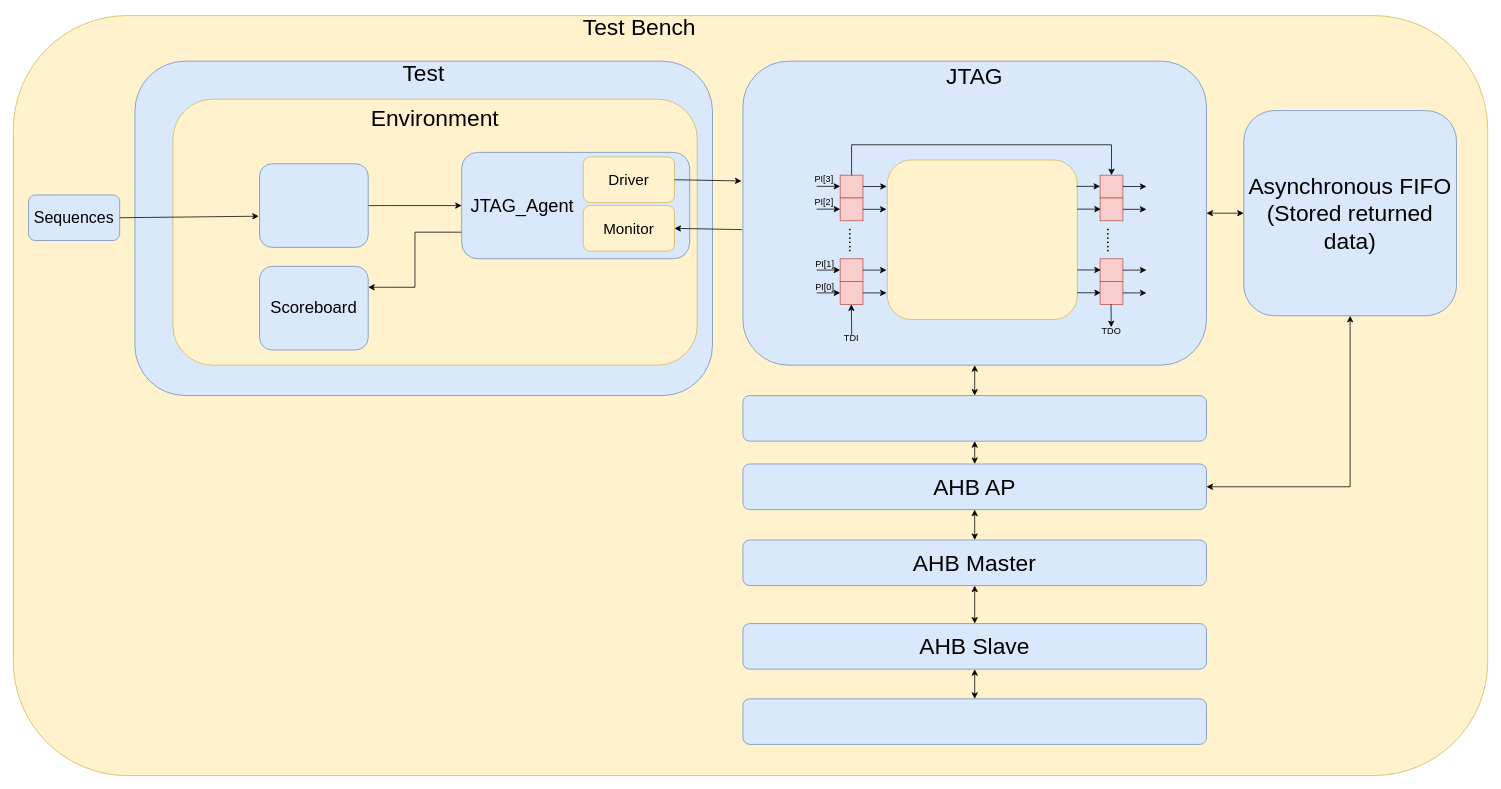
This 1501x789 diagram has some shape labels left out. The shapes that lost their labels are listed below. From the top down, each one's centre as x and y in pixels, then its label:
the point at 313,205: JTAG_sequencer
the point at 982,239: 4-bit adder
the point at 974,418: Asynchronous FIFO (Stored command)
the point at 974,721: RAM
